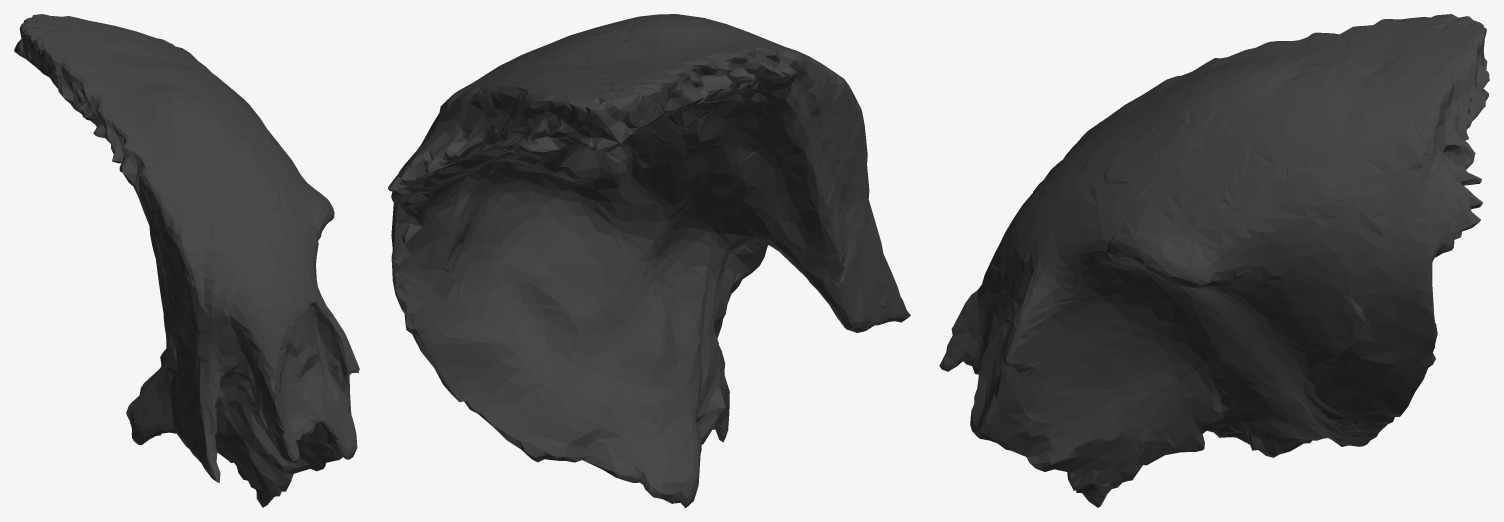
Rendered from Frontal_L.glb.
3 views of the same model, side by side, from view 1: azimuth 30°, elevation 25°; view 2: azimuth 150°, elevation 25°; view 3: azimuth 270°, elevation 25° (orthographic). The views are drawn at different scales.
Visible parts, largest first — view 1: Frontal_L; view 2: Frontal_L; view 3: Frontal_L.
Boxes of the visible parts, left/top/right/bottom form: Frontal_L: left=14, top=14, right=359, bottom=507; Frontal_L: left=388, top=14, right=910, bottom=507; Frontal_L: left=939, top=14, right=1489, bottom=507.
Size of the model in its own units: 186 by 339 by 378.
Materials: 1 (1 with a texture image).
